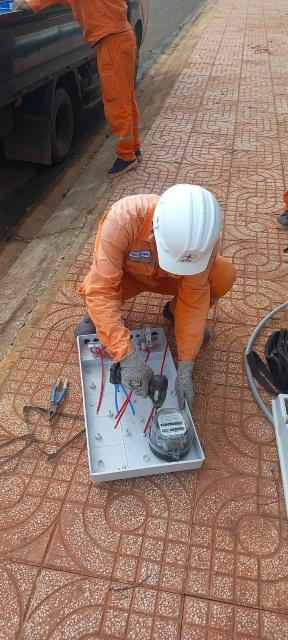gloves: (119, 339, 158, 401), (167, 359, 208, 412)
helmet: (143, 182, 224, 277)
shoes: (162, 301, 220, 342), (96, 138, 140, 179), (66, 307, 112, 339)
